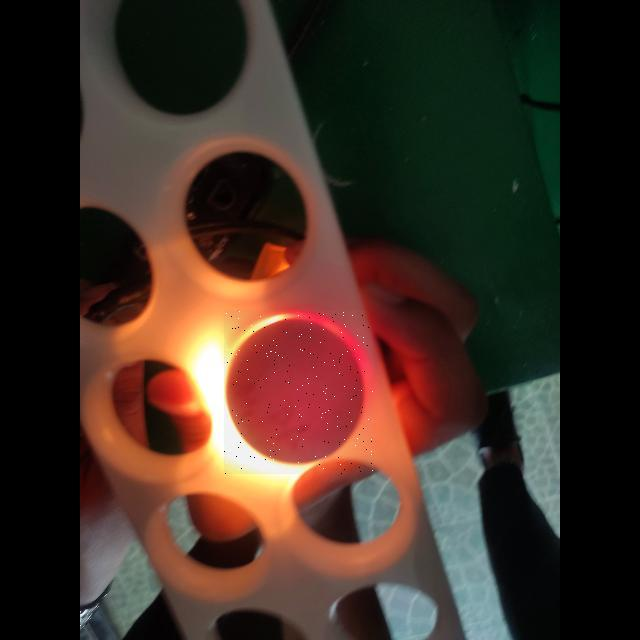Fertile: (224, 310, 374, 474)
